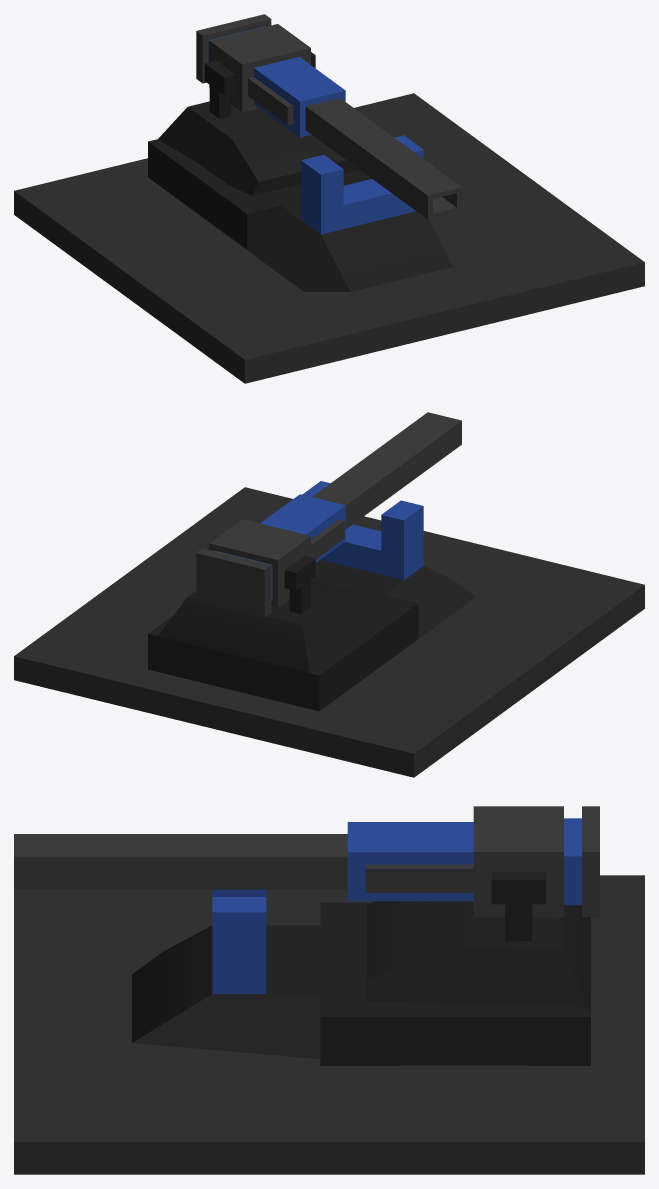
Rendered from Artillery.dae.
3 renders of one model, top to bottom at view 1: azimuth 30°, elevation 25°; view 2: azimuth 150°, elevation 25°; view 3: azimuth 270°, elevation 25°, orthographic. The views are drawn at different scales.
Parts seen in each view (by area): view 1: Ground, Box_2, Box_6, Box_3, Box_13, Box_7, Box_4, Box_1, Box_8, Box_15, Box_5, Box_12 (+1 smaller); view 2: Ground, Box_13, Box_6, Box_3, Box_2, Box_15, Box_7, Box_8, Box_1, Box_4, Box_12, Box_5 (+1 smaller); view 3: Ground, Box_2, Box_6, Box_3, Box_13, Box_7, Box_4, Box_9, Box_5, Box_15, Box_1, Box_12 (+2 smaller).
Part boxes in pixels (x1,y1,x2,y2): Ground: (14,93,644,383); Box_2: (171,170,452,291); Box_6: (158,101,359,195); Box_3: (305,98,461,219); Box_13: (148,139,280,248); Box_7: (209,24,310,112); Box_4: (254,57,345,137); Box_1: (301,179,400,234); Box_8: (301,155,343,210); Box_15: (196,14,271,83); Box_5: (248,77,293,124); Box_12: (204,52,315,95); Ground: (14,487,644,777); Box_13: (148,595,418,711); Box_6: (158,581,378,672); Box_3: (312,412,461,529); Box_2: (311,560,475,694); Box_15: (196,548,271,617); Box_7: (209,519,310,607); Box_8: (381,500,423,579); Box_1: (324,524,403,579); Box_4: (260,494,345,562); Box_12: (207,547,315,590); Box_5: (311,519,344,559); Ground: (14,875,644,1174); Box_2: (132,925,527,1065); Box_6: (367,901,590,1010); Box_3: (14,834,347,889); Box_13: (320,902,590,1065); Box_7: (473,806,563,917); Box_4: (347,822,473,901); Box_9: (212,897,266,992); Box_5: (365,864,473,892); Box_15: (582,806,599,917); Box_1: (212,961,266,993); Box_12: (491,872,545,904).
Bounding box in the file's own units: 1.75 × 0.65 × 1.75.
